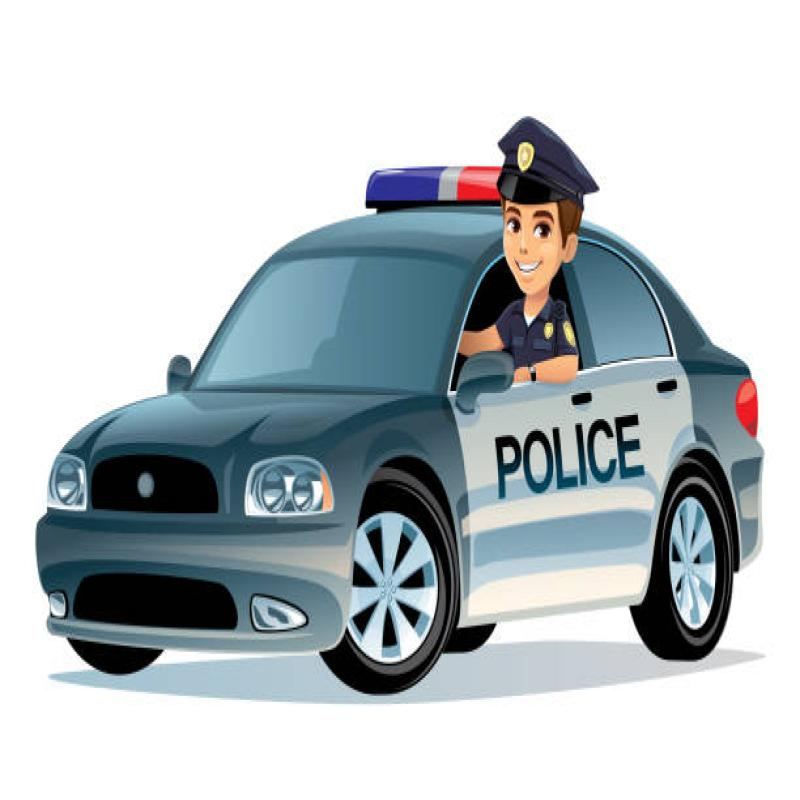AmbulanceSiren: (357, 141, 514, 223)
